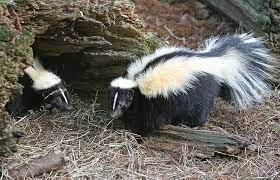skunk: (107, 35, 261, 122), (10, 60, 75, 115)
